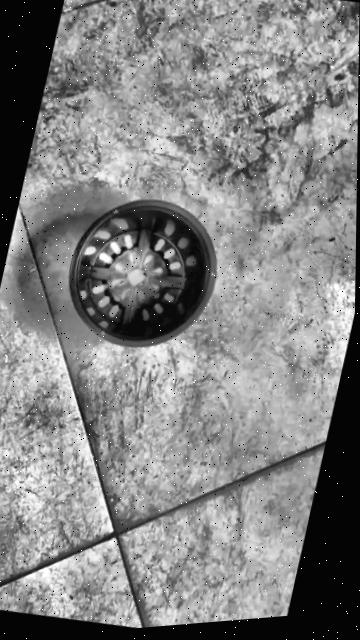pot: (54, 178, 231, 365)
